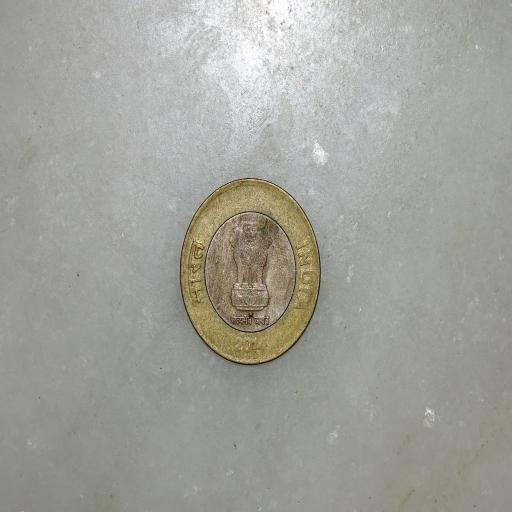rupee10: (174, 175, 324, 370)
